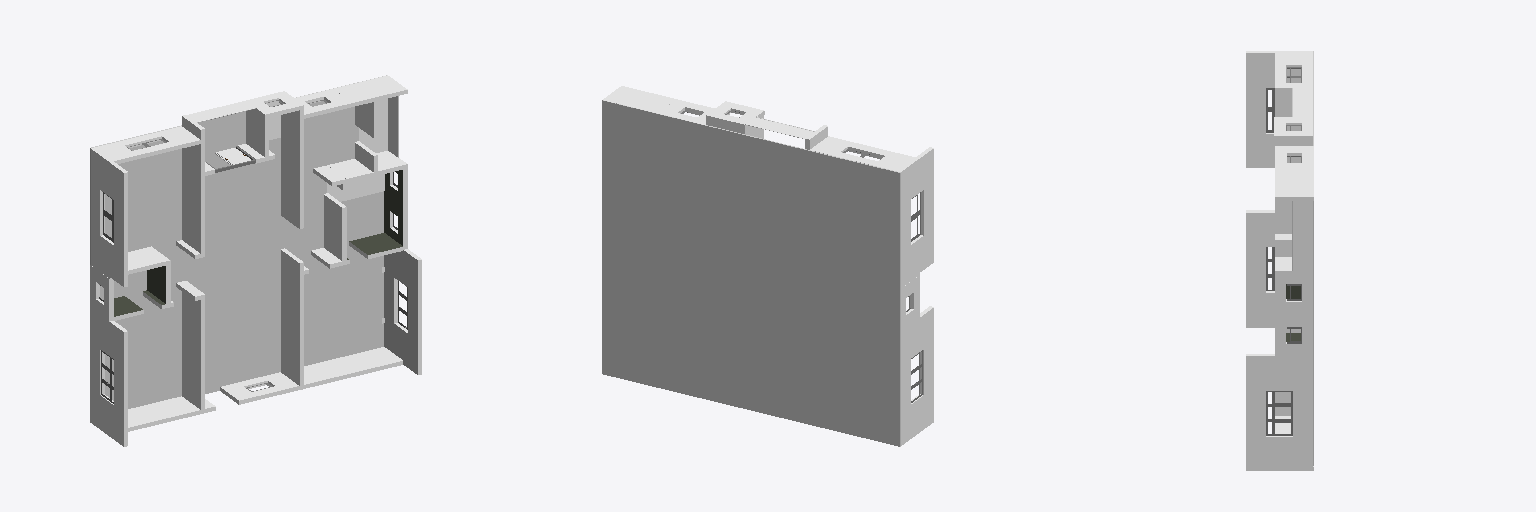
Rendered from otro.obj.
The picture shows the model from 3 angles: view 1: azimuth 30°, elevation 25°; view 2: azimuth 150°, elevation 25°; view 3: azimuth 270°, elevation 25°; orthographic projection.
Visible parts, largest first — view 1: Object_0, Object_11, Object_4, Object_16, Object_42, Object_53, Object_52, Object_41, Object_8, Object_44, Object_31, Object_49 (+17 smaller); view 2: Object_0, Object_4, Object_11, Object_8, Object_55, Object_27, Object_1, Object_29, Object_168; view 3: Object_17, Object_5, Object_12, Object_171, Object_25, Object_22, Object_55, Object_8, Object_29, Object_27, Object_52, Object_53 (+1 smaller).
Part boxes in pixels (left/top/right/bottom): Object_0: left=90, top=75, right=386, bottom=408; Object_11: left=90, top=308, right=127, bottom=446; Object_4: left=91, top=149, right=127, bottom=286; Object_16: left=384, top=250, right=417, bottom=374; Object_42: left=281, top=248, right=303, bottom=389; Object_53: left=182, top=115, right=204, bottom=253; Object_52: left=281, top=97, right=303, bottom=228; Object_41: left=182, top=292, right=204, bottom=413; Object_8: left=91, top=126, right=200, bottom=163; Object_44: left=304, top=347, right=402, bottom=384; Object_31: left=220, top=372, right=299, bottom=404; Object_49: left=324, top=193, right=346, bottom=262; Object_0: left=602, top=100, right=900, bottom=446; Object_4: left=901, top=147, right=933, bottom=285; Object_11: left=901, top=306, right=933, bottom=445; Object_8: left=810, top=136, right=919, bottom=171; Object_55: left=603, top=86, right=675, bottom=112; Object_27: left=706, top=101, right=764, bottom=128; Object_1: left=901, top=275, right=919, bottom=330; Object_29: left=657, top=99, right=714, bottom=124; Object_168: left=745, top=117, right=813, bottom=138; Object_17: left=1246, top=354, right=1312, bottom=470; Object_5: left=1246, top=53, right=1300, bottom=167; Object_12: left=1246, top=213, right=1274, bottom=327; Object_171: left=1293, top=201, right=1312, bottom=270; Object_25: left=1275, top=269, right=1312, bottom=313; Object_22: left=1275, top=314, right=1312, bottom=356; Object_55: left=1275, top=170, right=1313, bottom=200; Object_8: left=1275, top=51, right=1312, bottom=84; Object_29: left=1275, top=146, right=1313, bottom=169; Object_27: left=1274, top=117, right=1312, bottom=139; Object_52: left=1275, top=136, right=1312, bottom=233; Object_53: left=1275, top=85, right=1312, bottom=116.
Bounding box in the file's own units: 18.78 × 17.12 × 3.75.